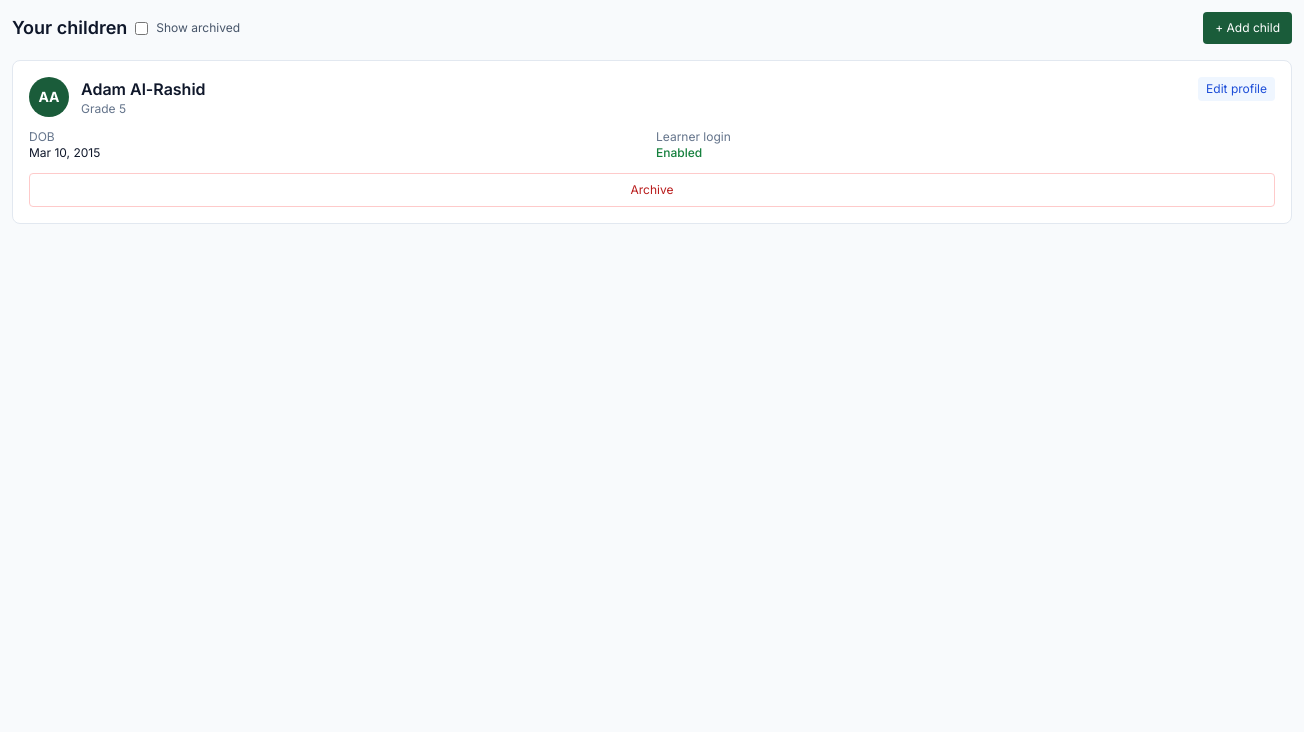
Learner login save failures are visible (item 5) › a server rejection during save is surfaced in the form rather than swallowed
Step 1. Click the button "Edit profile" → (1237, 89), box [1198,77,1275,101]
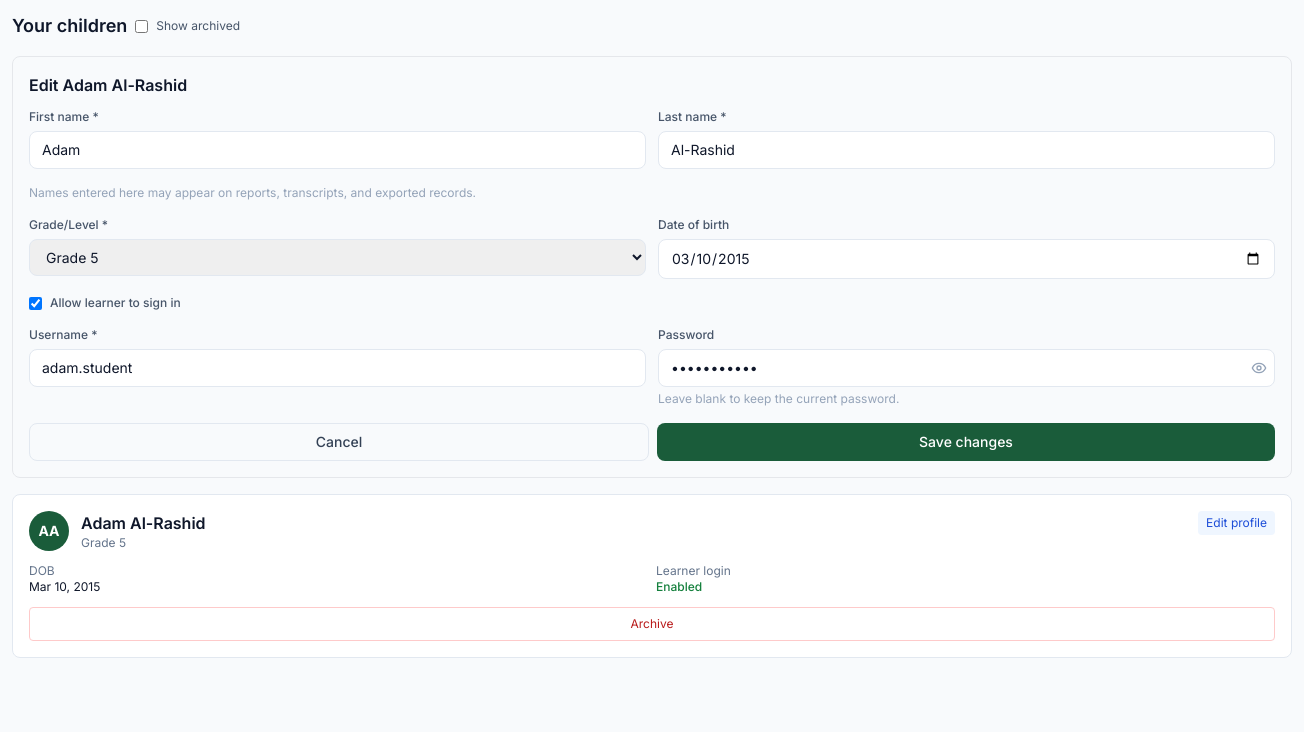
Step 2. Click the button "Save changes" → (966, 442), box [657,423,1275,461]
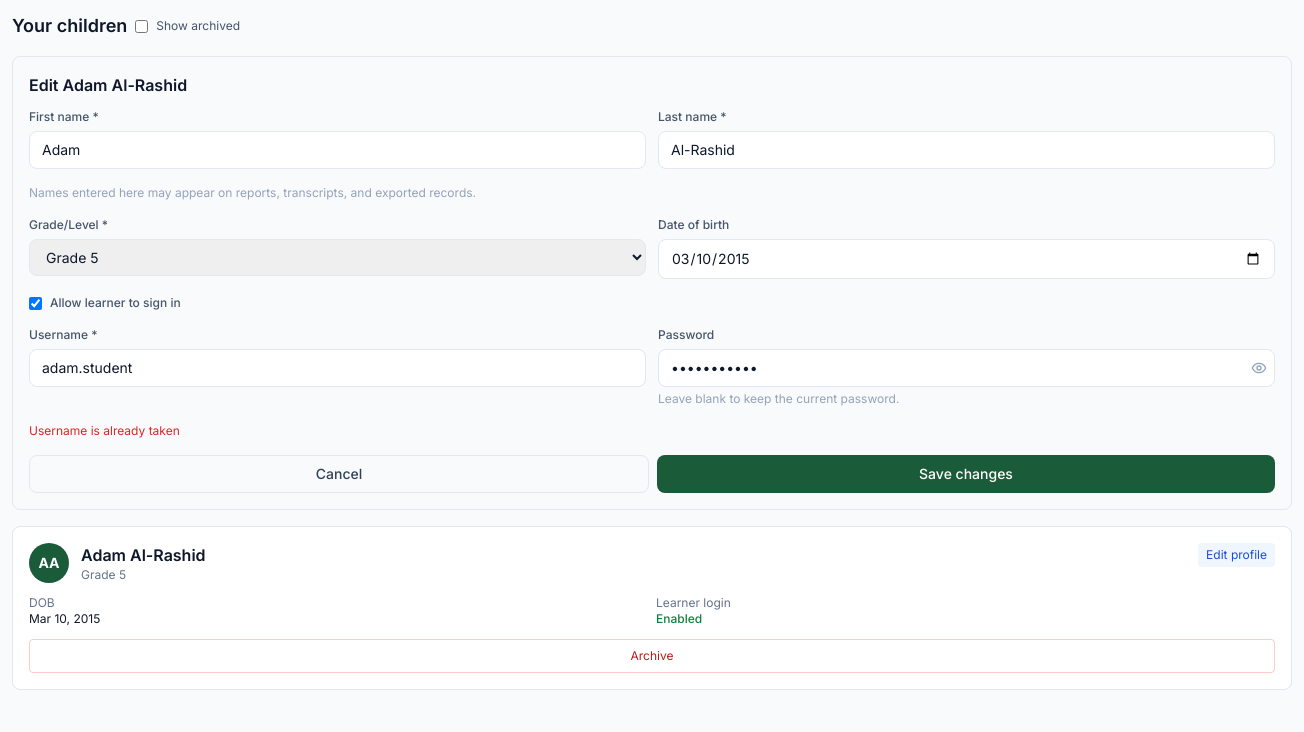
Now the text "Username is already taken" is shown, box [29,423,180,438]
